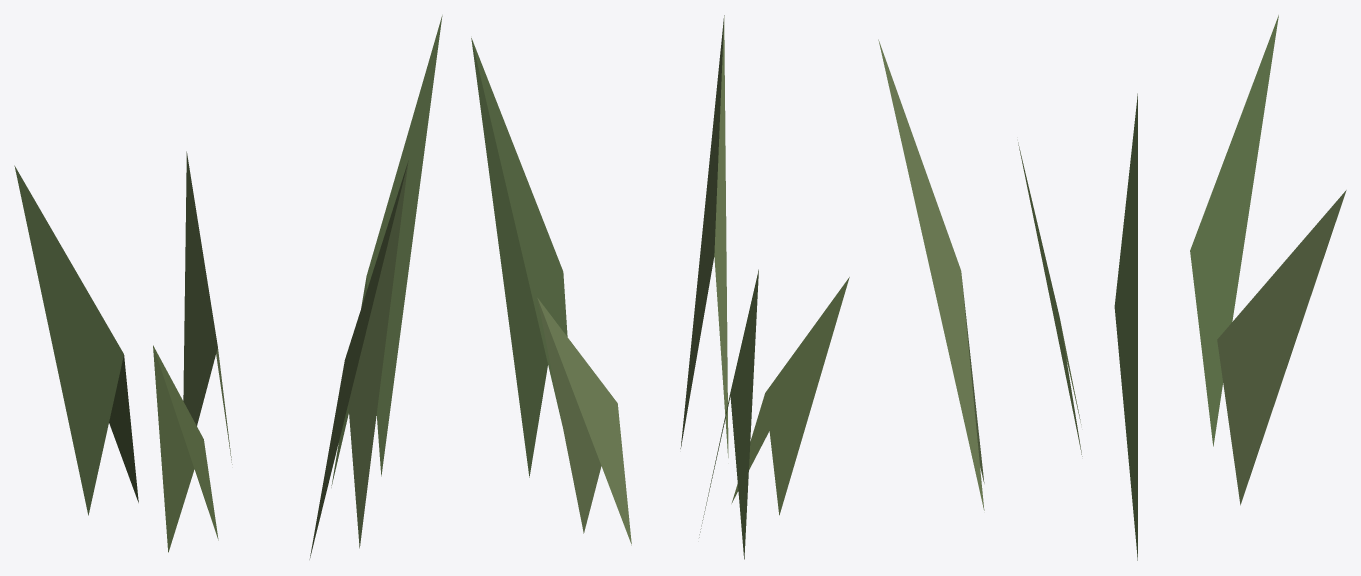
The model's file is grass.glb.
3 renders of one model, left to right at view 1: azimuth 30°, elevation 25°; view 2: azimuth 150°, elevation 25°; view 3: azimuth 270°, elevation 25°, orthographic. The views are drawn at different scales.
Parts seen in each view (by area): view 1: surface; view 2: surface; view 3: surface.
Boxes of the visible parts, bbox=[...] form: surface: bbox=[14, 15, 442, 559]; surface: bbox=[471, 15, 849, 559]; surface: bbox=[878, 15, 1346, 560].
Size of the model in its own units: 0.5069 by 0.5951 by 0.5027.
